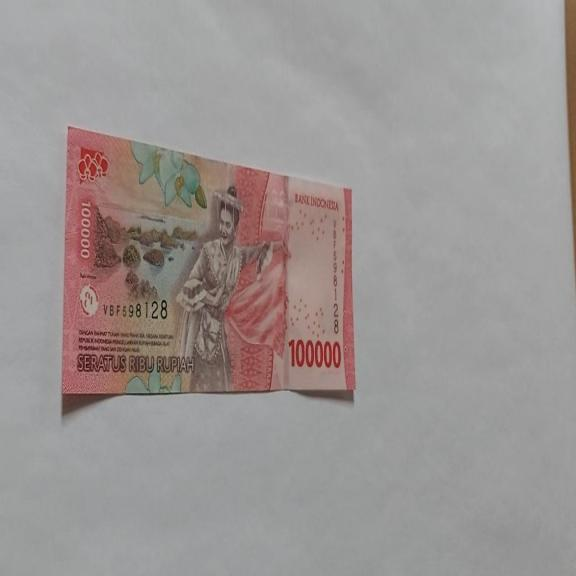Kertas: (62, 124, 356, 402), (288, 336, 342, 370)
